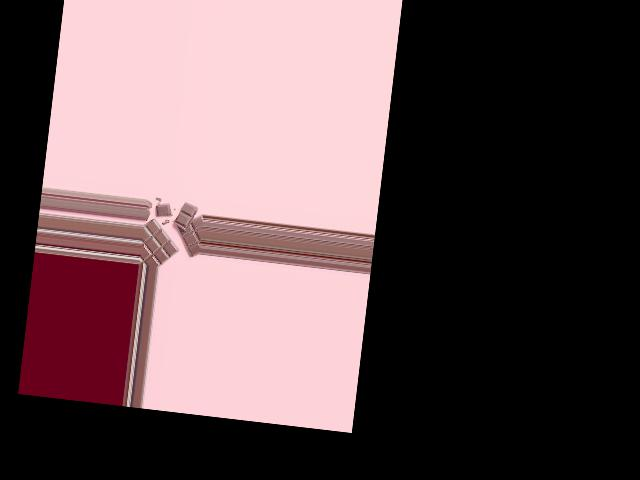chocolate: (139, 201, 200, 271)
